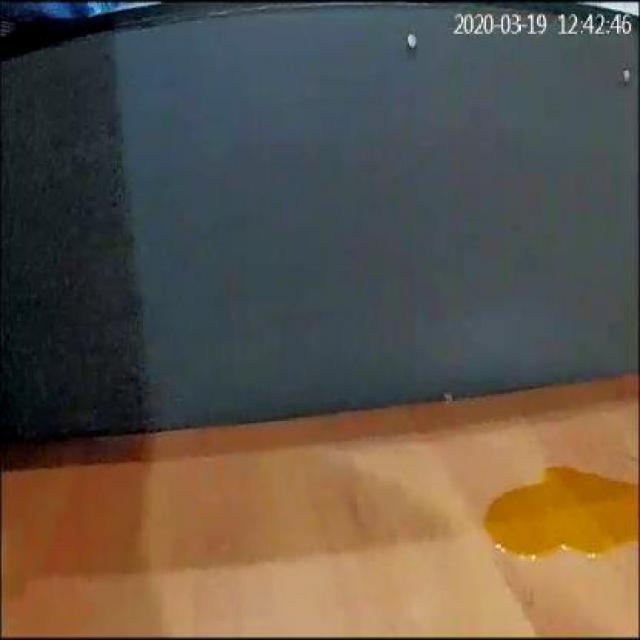spill: (486, 462, 640, 556)
